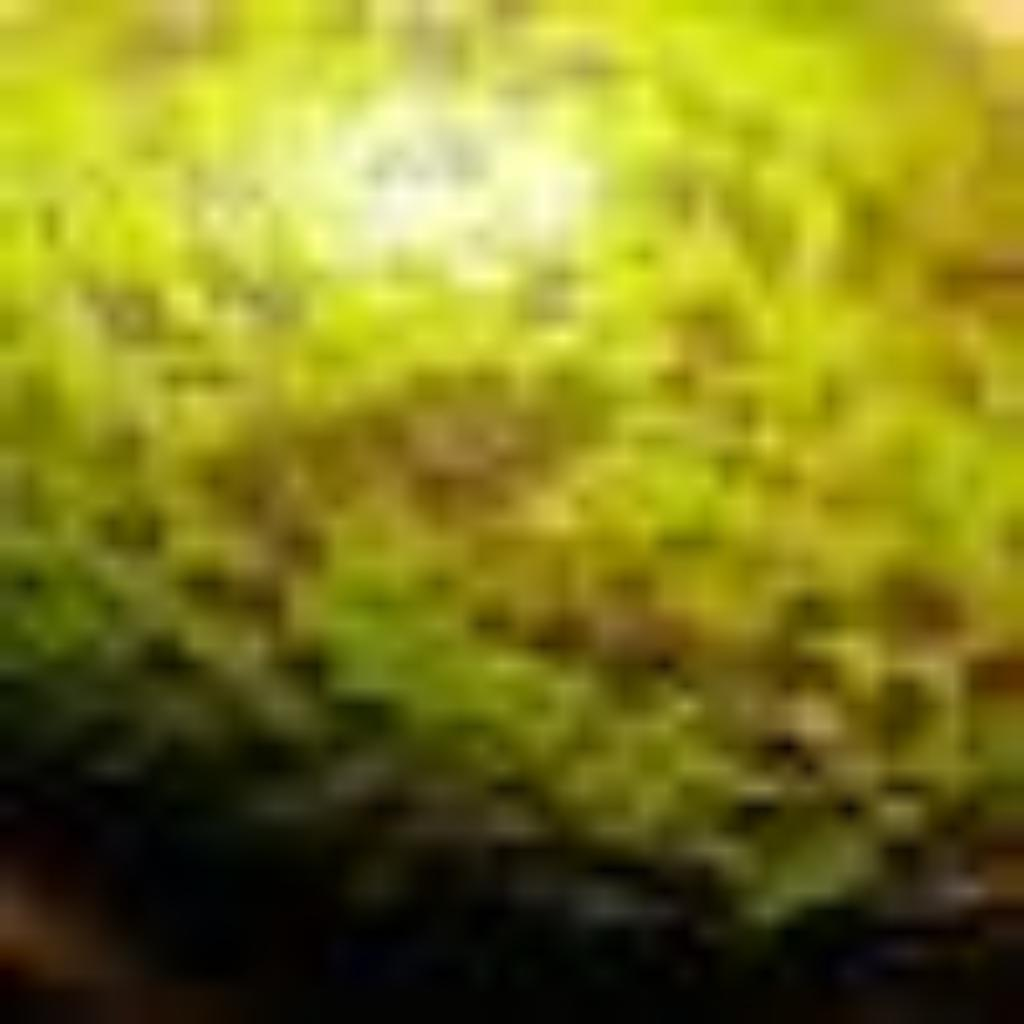cercospora: (0, 0, 1024, 942)
